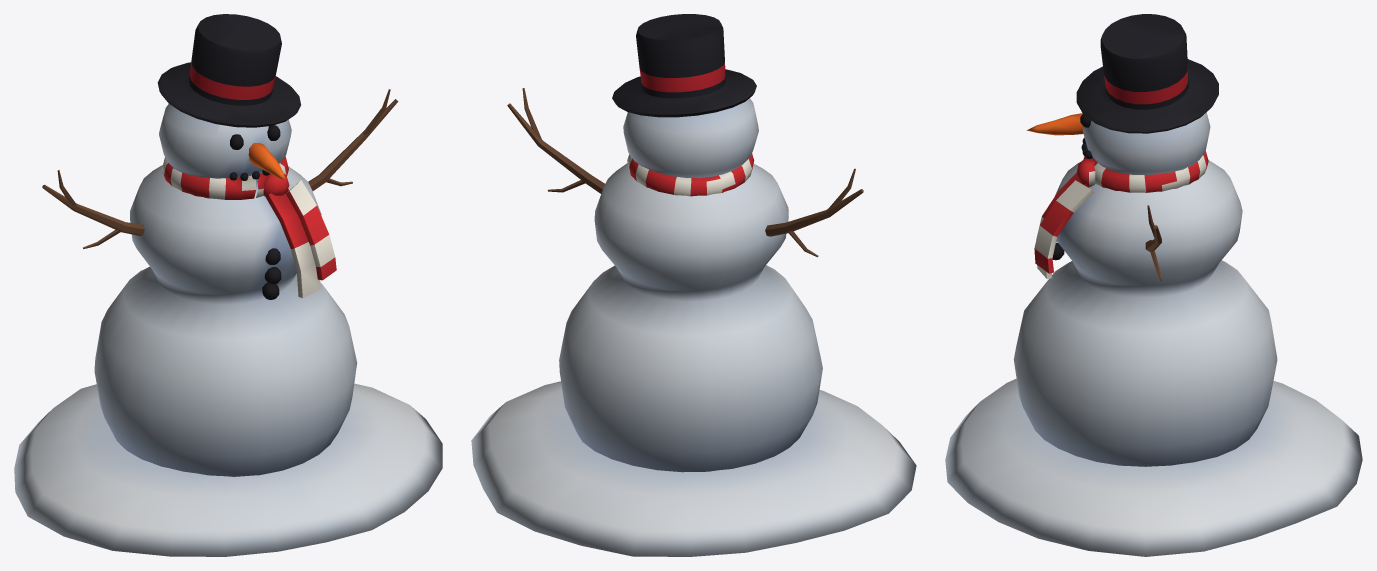
The model's file is snowman.glb.
3 renders of one model, left to right at view 1: azimuth 30°, elevation 25°; view 2: azimuth 150°, elevation 25°; view 3: azimuth 270°, elevation 25°, orthographic.
Parts seen in each view (by area): view 1: snowman; view 2: snowman; view 3: snowman.
Part boxes in pixels (x1,y1,x2,y2): snowman: (14,14,442,556); snowman: (471,14,916,556); snowman: (945,14,1362,556).
Bounding box in the file's own units: 1.8 × 1.9 × 1.65.
